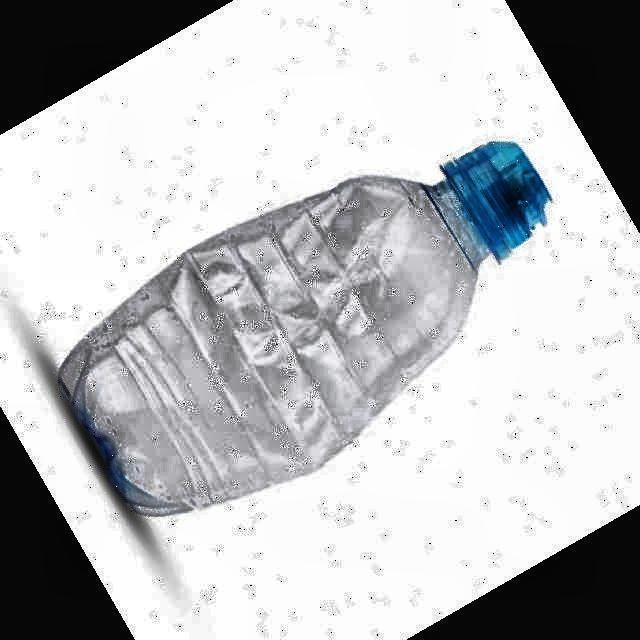plastic: (59, 141, 550, 514)
